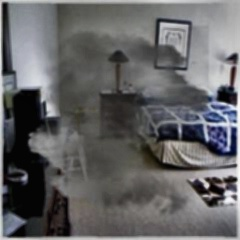smoke: (78, 34, 181, 163)
